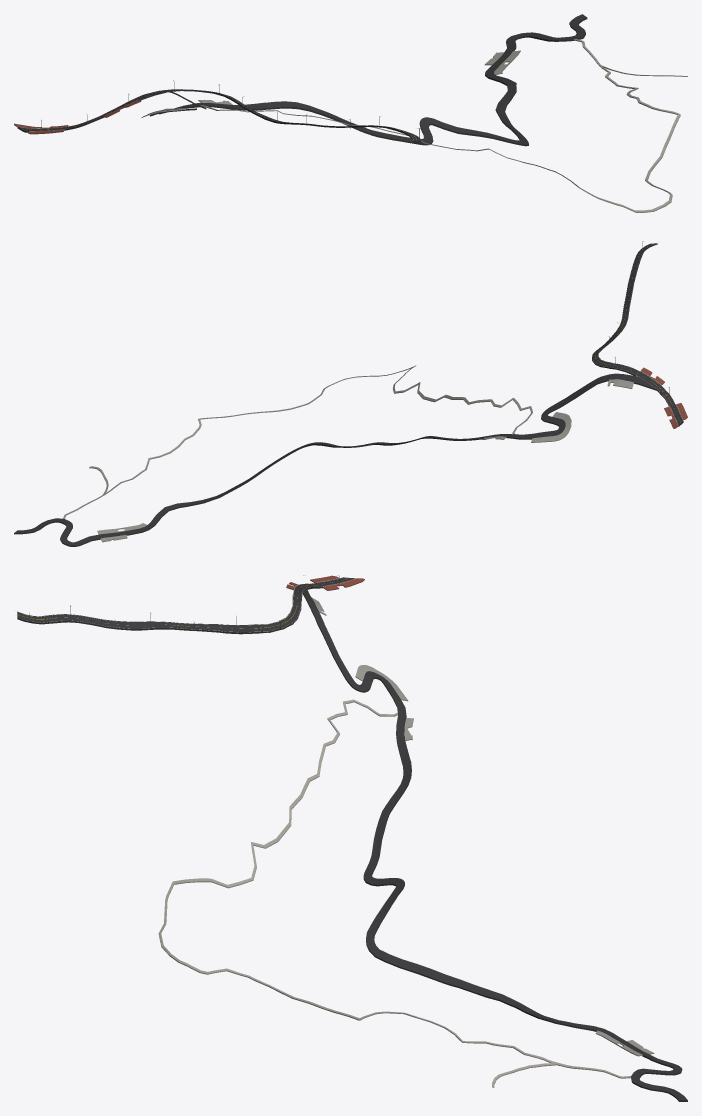
The model's file is 16-54722-29724.ad4adbce.glb.
The picture shows the model from 3 angles, top to bottom: view 1: azimuth 30°, elevation 25°; view 2: azimuth 150°, elevation 25°; view 3: azimuth 270°, elevation 25°; orthographic projection. The views are drawn at different scales.
Bounding box in the file's own units: 587 × 207 × 496.
